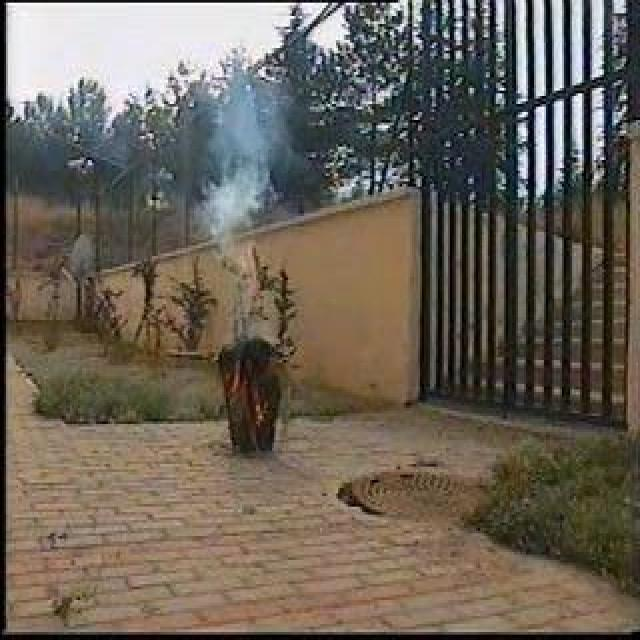fire: (227, 364, 269, 428)
smoke: (204, 70, 292, 238)
